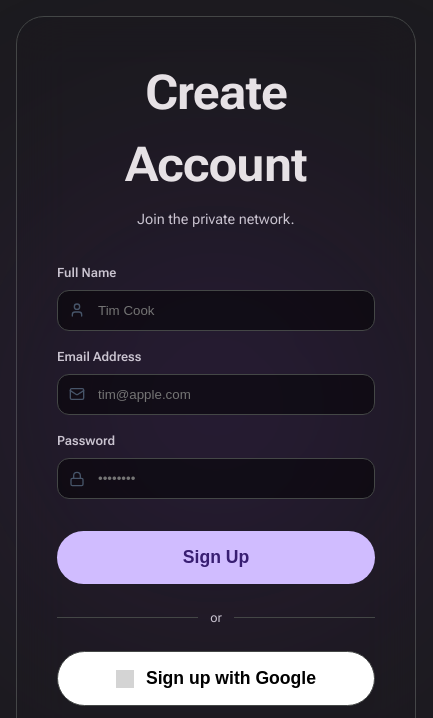
SignUp › shows success message when signup succeeds
This screenshot has width=433, height=718.
Type "Test User" into the field with placeholder "Tim Cook" at (216, 310), box [57, 290, 375, 331]
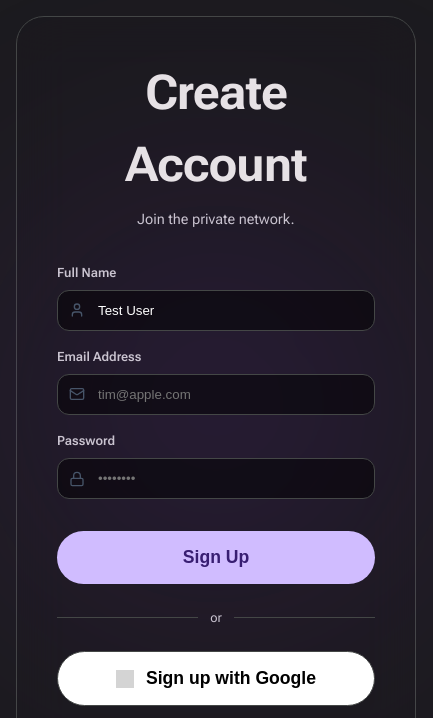
Type "test@test.com" into the field with placeholder "tim@apple.com" at (216, 394), box [57, 374, 375, 415]
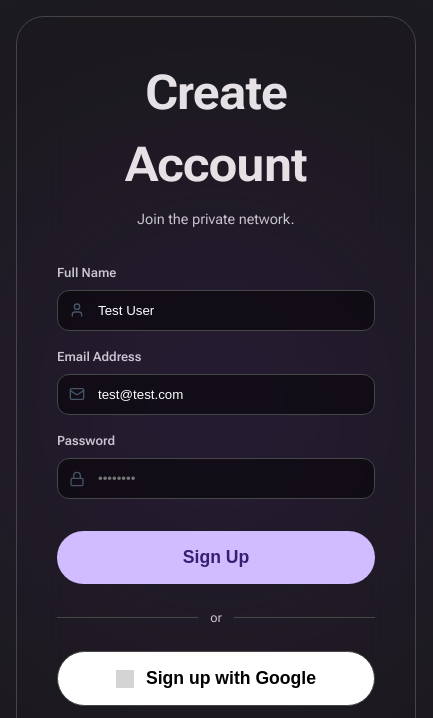
Type "password123" into the password field with placeholder "••••••••" at (216, 479), box [57, 458, 375, 499]
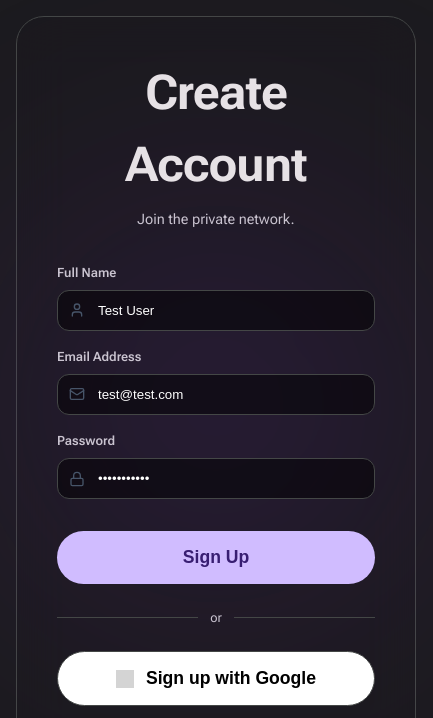
Click the button "Sign Up" at (216, 558), box [57, 531, 375, 584]
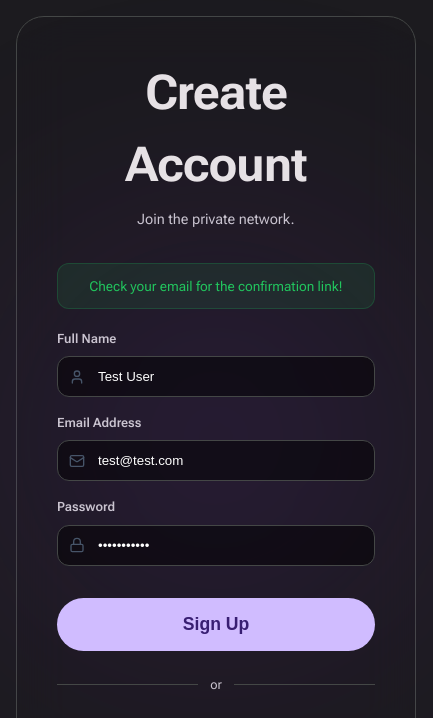
Expected: the text "Check your email for the confirmation link!" is shown, [57, 263, 375, 309]
